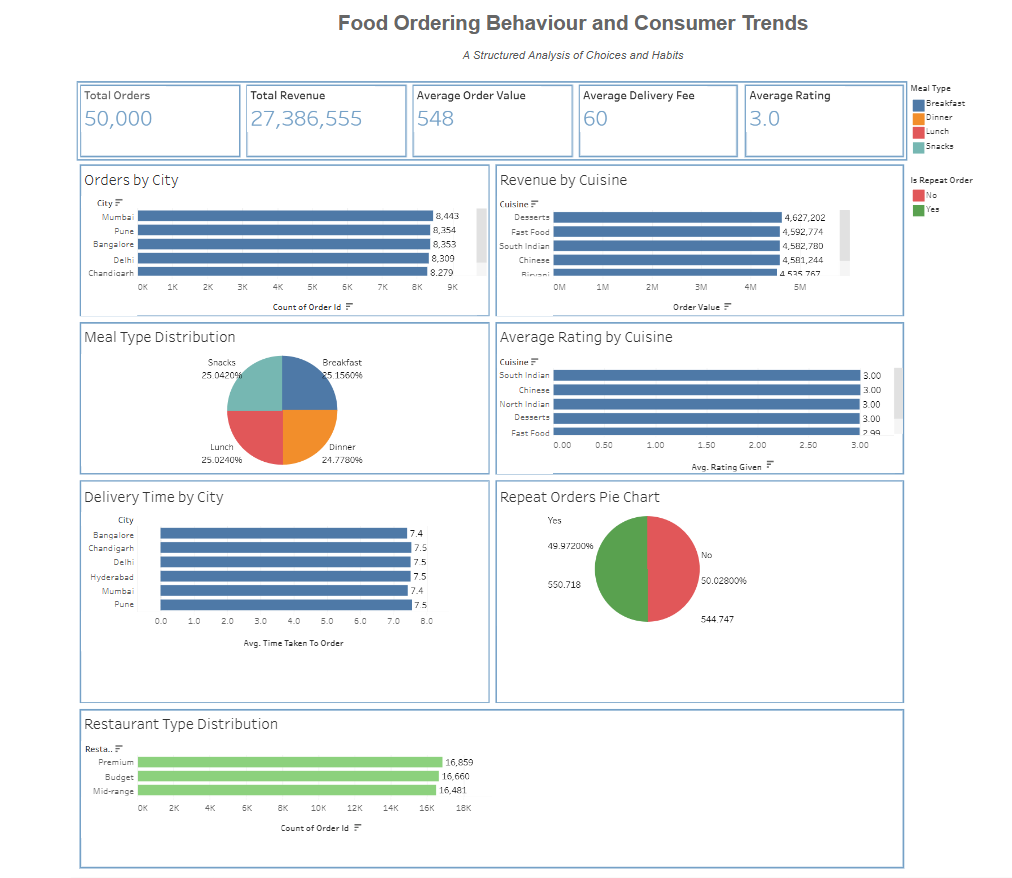

Layout of this report page (visuals, bound fields, positions):
{"tool":"tableau","page":{"name":"Dashboard 2","canvas":[1420,1260],"ordinal":0},"visuals":[{"type":"text","box":[8,8,1404,126]},{"type":"legend","title":"Meal Type Distribution","param":"[federated.16yjqis1wdkeig1g78d9y1molp3z].[none:meal_type:nk]","box":[1183,134,229,114]},{"type":"worksheet","title":"Total Orders","mark":"Automatic","box":[9,135,235,112]},{"type":"worksheet","title":"Total Revenue","mark":"Automatic","box":[244,135,235,112]},{"type":"worksheet","title":"Average Order Value","mark":"Automatic","box":[479,135,235,112]},{"type":"worksheet","title":"Average Delivery Fee","mark":"Automatic","box":[714,135,234,112]},{"type":"worksheet","title":"Average Rating","mark":"Automatic","box":[948,135,234,112]},{"type":"worksheet","title":"Orders by City","mark":"Automatic","rows":["city"],"cols":["order_id"],"box":[8,248,588,223]},{"type":"worksheet","title":"Revenue by Cuisine","mark":"Automatic","rows":["cuisine"],"cols":["order_value"],"box":[596,248,587,223]},{"type":"legend","title":"Meal Type Distribution","param":"[federated.16yjqis1wdkeig1g78d9y1molp3z].[cnt:order_id:qk]","box":[1183,248,229,24]},{"type":"legend","title":"Repeat Orders Pie Chart","param":"[federated.16yjqis1wdkeig1g78d9y1molp3z].[none:is_repeat_order:nk]","box":[1183,272,229,72]},{"type":"worksheet","title":"Meal Type Distribution","mark":"Pie","box":[8,471,588,224]},{"type":"worksheet","title":"Average Rating by Cuisine","mark":"Automatic","rows":["cuisine"],"cols":["rating_given"],"box":[596,471,587,224]},{"type":"worksheet","title":"Delivery Time by City","mark":"Automatic","rows":["city"],"cols":["time_taken_to_order"],"box":[8,695,588,323]},{"type":"worksheet","title":"Repeat Orders Pie Chart","mark":"Pie","box":[596,695,587,323]},{"type":"worksheet","title":"Restaurant Type Distribution","mark":"Automatic","rows":["restaurant_type"],"cols":["order_id"],"box":[8,1018,1175,234]}]}

Visuals, with their boxes in screenshot pixels (x1, y1, x2, y2), scaled from the page's 1420x1260 canvas onto the 1012x878 screenshot:
text: region(6, 6, 1006, 93)
"Meal Type Distribution" legend: region(843, 93, 1006, 173)
"Total Orders" worksheet: region(6, 94, 174, 172)
"Total Revenue" worksheet: region(174, 94, 341, 172)
"Average Order Value" worksheet: region(341, 94, 509, 172)
"Average Delivery Fee" worksheet: region(509, 94, 676, 172)
"Average Rating" worksheet: region(676, 94, 842, 172)
"Orders by City" worksheet: region(6, 173, 425, 328)
"Revenue by Cuisine" worksheet: region(425, 173, 843, 328)
"Meal Type Distribution" legend: region(843, 173, 1006, 190)
"Repeat Orders Pie Chart" legend: region(843, 190, 1006, 240)
"Meal Type Distribution" worksheet (Pie marks): region(6, 328, 425, 484)
"Average Rating by Cuisine" worksheet: region(425, 328, 843, 484)
"Delivery Time by City" worksheet: region(6, 484, 425, 709)
"Repeat Orders Pie Chart" worksheet (Pie marks): region(425, 484, 843, 709)
"Restaurant Type Distribution" worksheet: region(6, 709, 843, 872)
